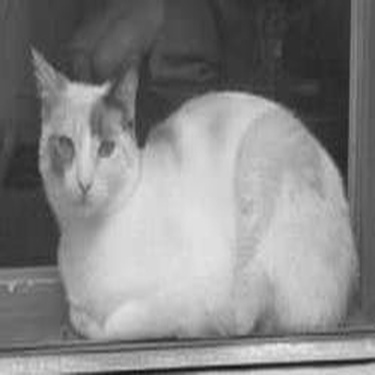cat: (29, 42, 364, 343)
